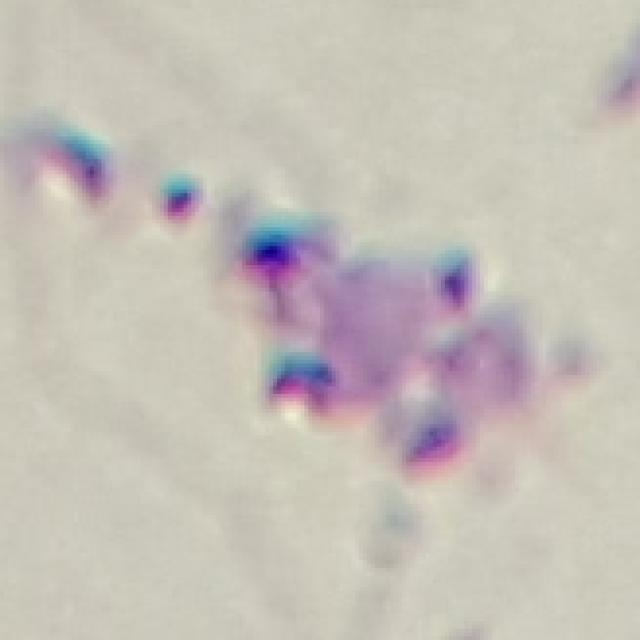non-sperm: (250, 217, 547, 475)
